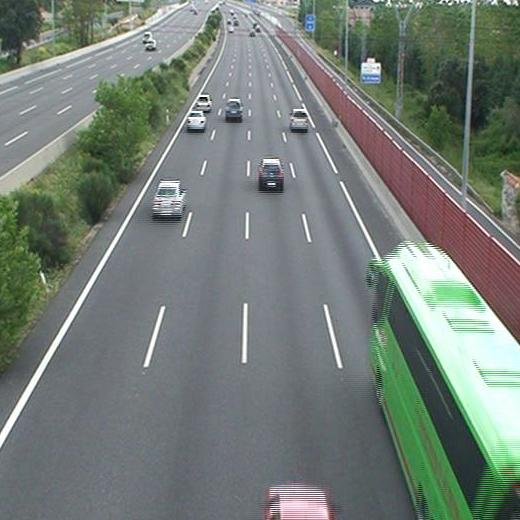bus: (372, 244, 520, 520)
car: (153, 182, 185, 216), (258, 159, 284, 189), (290, 110, 308, 129), (225, 98, 242, 118), (187, 112, 206, 129), (195, 95, 211, 111)
